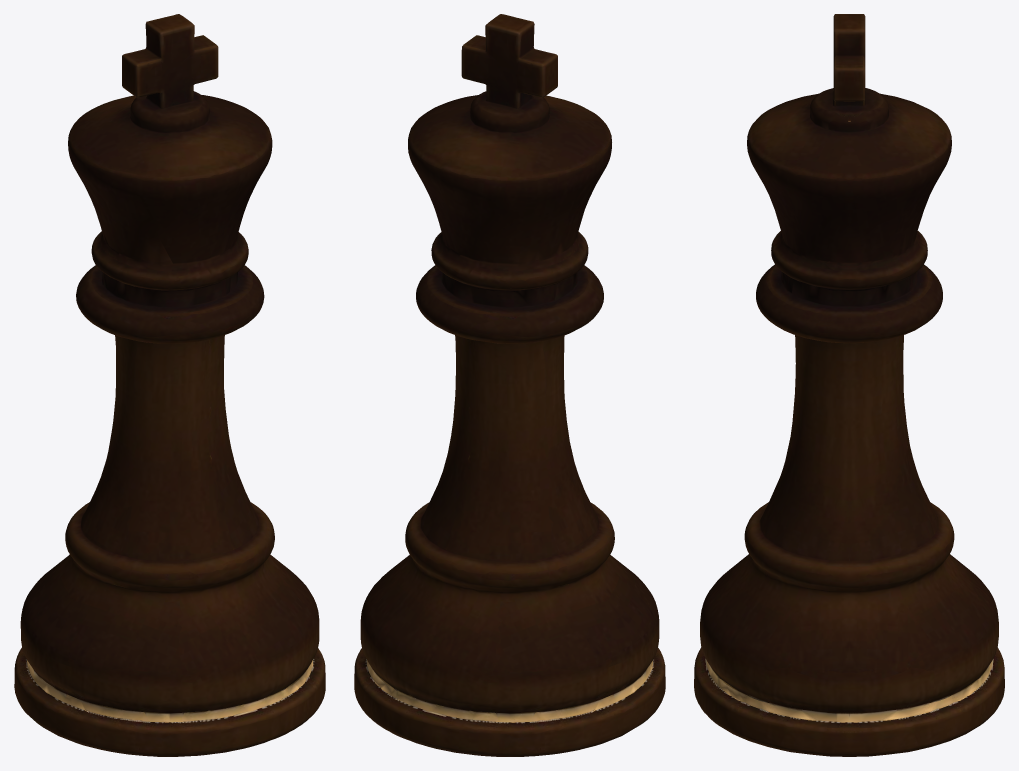
Rendered from king_dark.glb.
3 views of the same model, side by side, from view 1: azimuth 30°, elevation 25°; view 2: azimuth 150°, elevation 25°; view 3: azimuth 270°, elevation 25° (orthographic).
Visible parts, largest first — view 1: geometry_0; view 2: geometry_0; view 3: geometry_0.
Part boxes in pixels (x1,y1,x2,y2): geometry_0: (14, 14, 325, 756); geometry_0: (354, 14, 665, 756); geometry_0: (694, 14, 1004, 756).
Size of the model in its own units: 0.628 by 1.5 by 0.6278.
1 material, 1 textured.
